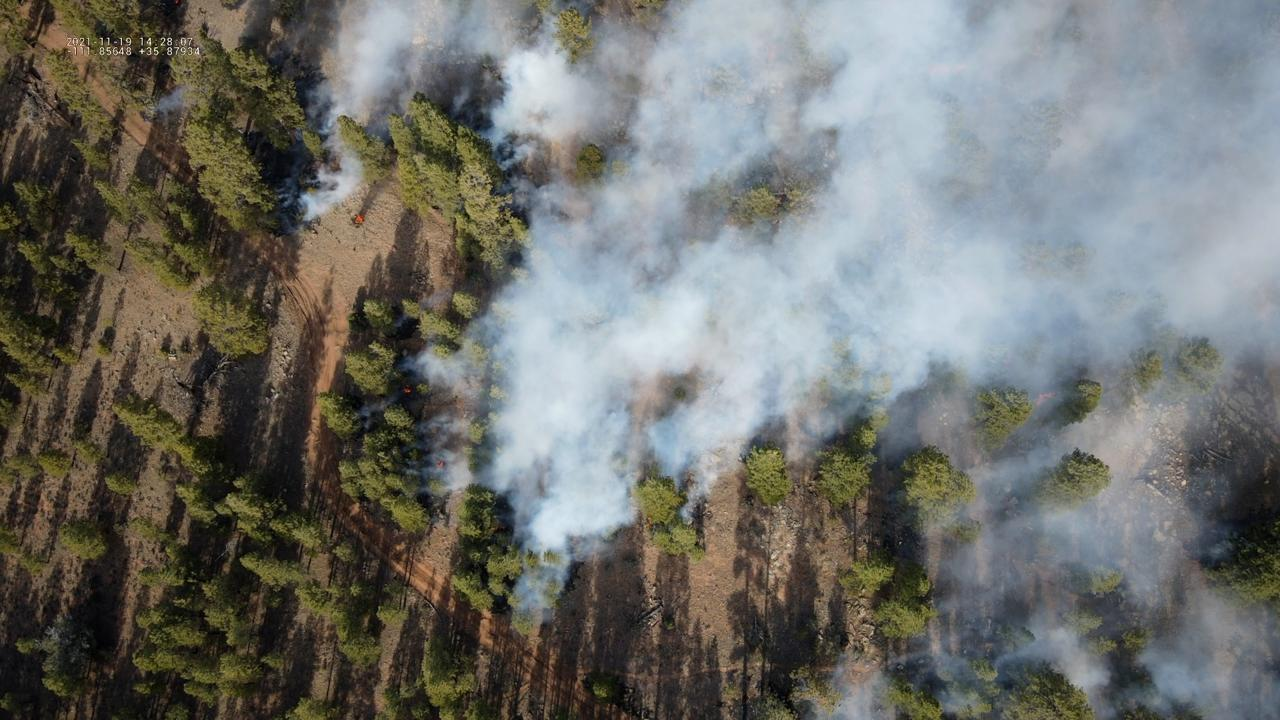fire: (1032, 390, 1058, 407), (354, 214, 364, 225), (434, 460, 445, 470), (402, 386, 412, 394), (172, 0, 181, 7)
smoke: (277, 0, 1280, 720), (150, 86, 194, 117)
